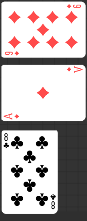8C: (50, 192, 57, 210)
9D: (66, 3, 83, 9)
AD: (3, 111, 21, 120)
